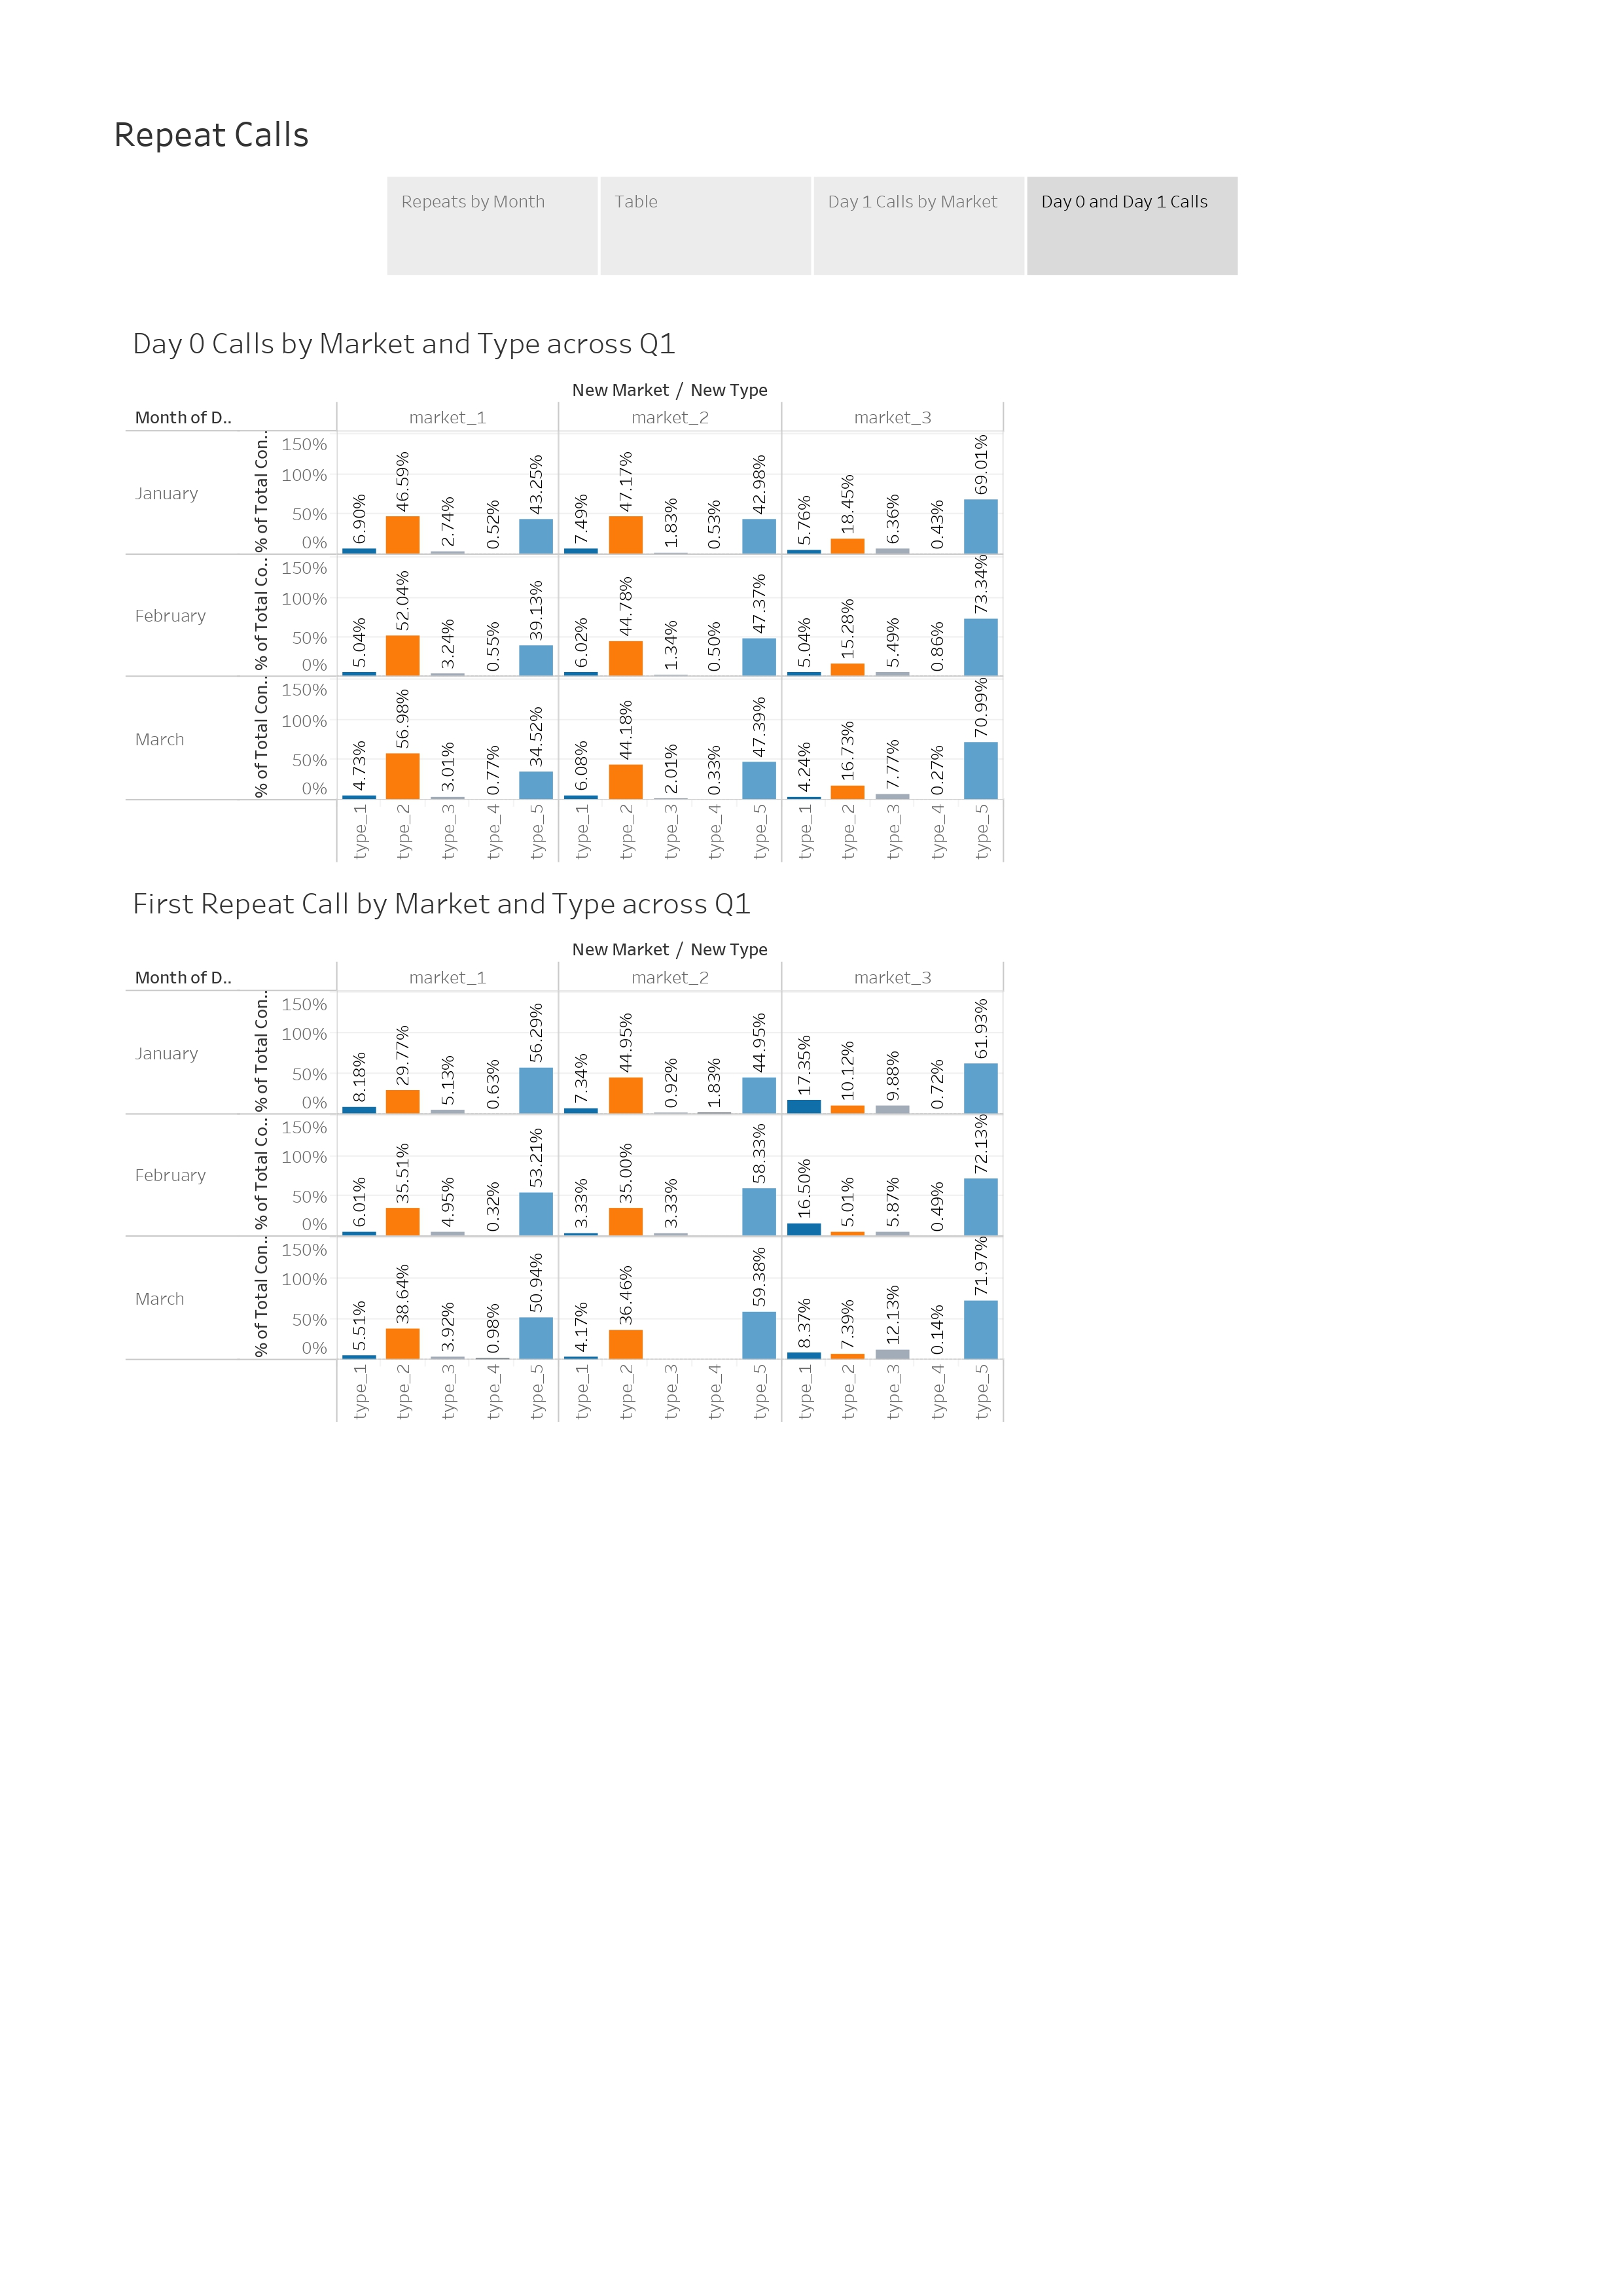

The dashboard page shown, as its layout file describes it:
{"tool":"tableau","page":{"name":"Dashboard 4","canvas":[650,860],"ordinal":3},"visuals":[{"type":"worksheet","title":"% Day 0 by Market and Type","mark":"Bar","rows":["date_created"],"cols":["new_market","new_type"],"box":[8,8,634,422]},{"type":"worksheet","title":"% Day 1 by Market and Type","mark":"Bar","rows":["date_created"],"cols":["new_market","new_type"],"box":[8,430,634,422]}]}

Visuals, with their boxes on the page's 650x860 design canvas (x1, y1, x2, y2). These are canvas units, not pixel positions in the 1623x2296 screenshot, which may show the page scaled, cropped or inside an application window:
"% Day 0 by Market and Type" worksheet (Bar marks): BBox(8, 8, 642, 430)
"% Day 1 by Market and Type" worksheet (Bar marks): BBox(8, 430, 642, 852)
